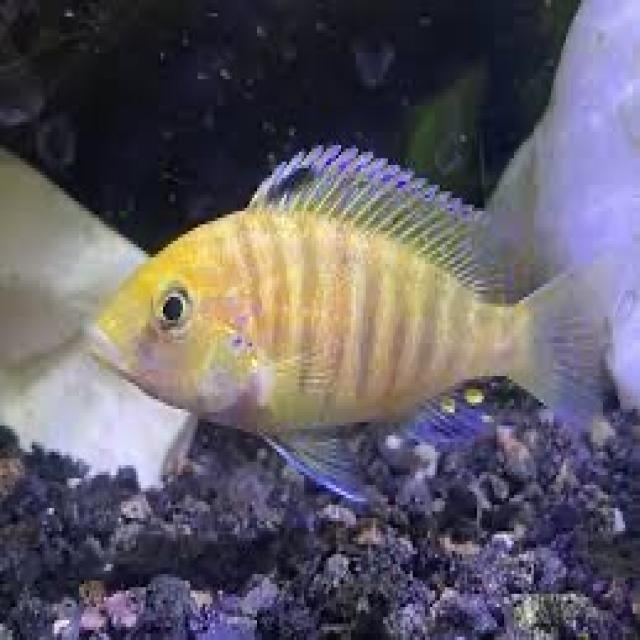YellowCichlid: (77, 140, 628, 504)
